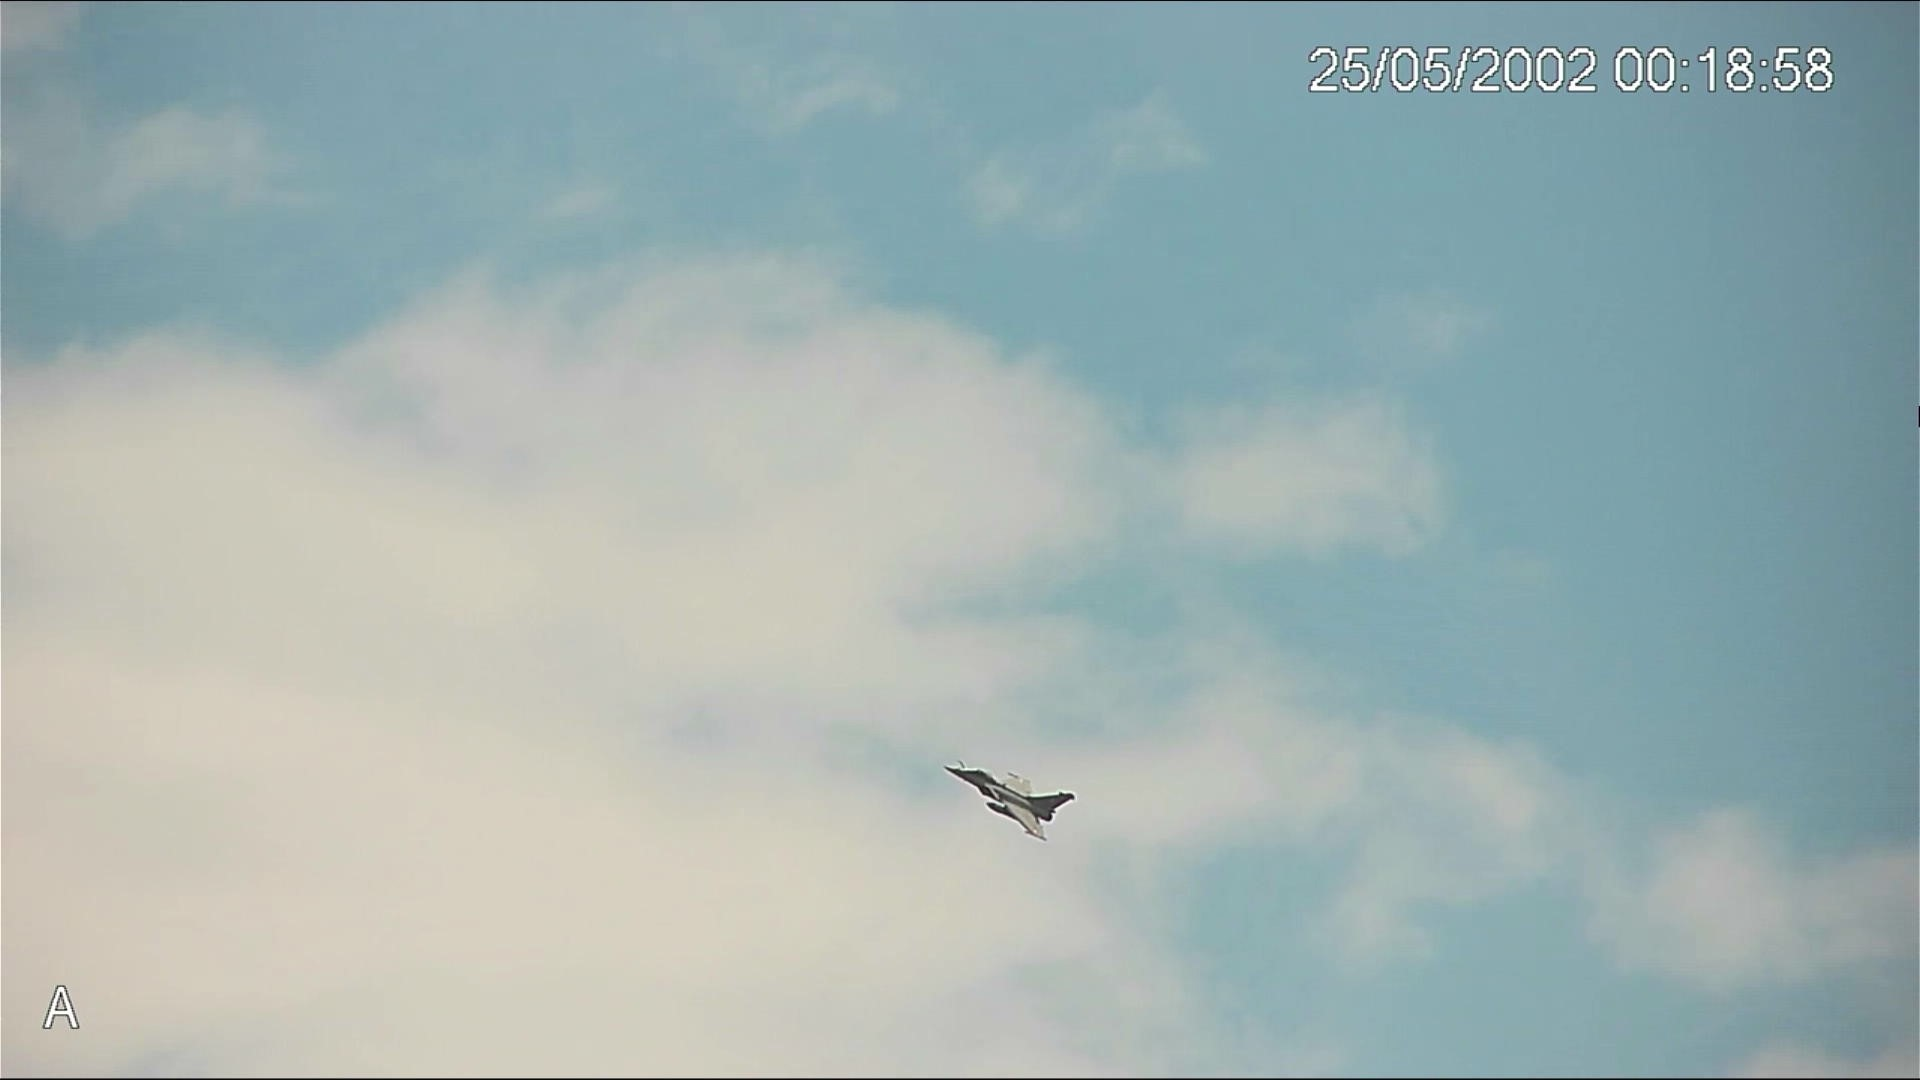SU_30: (939, 754, 1085, 848)
